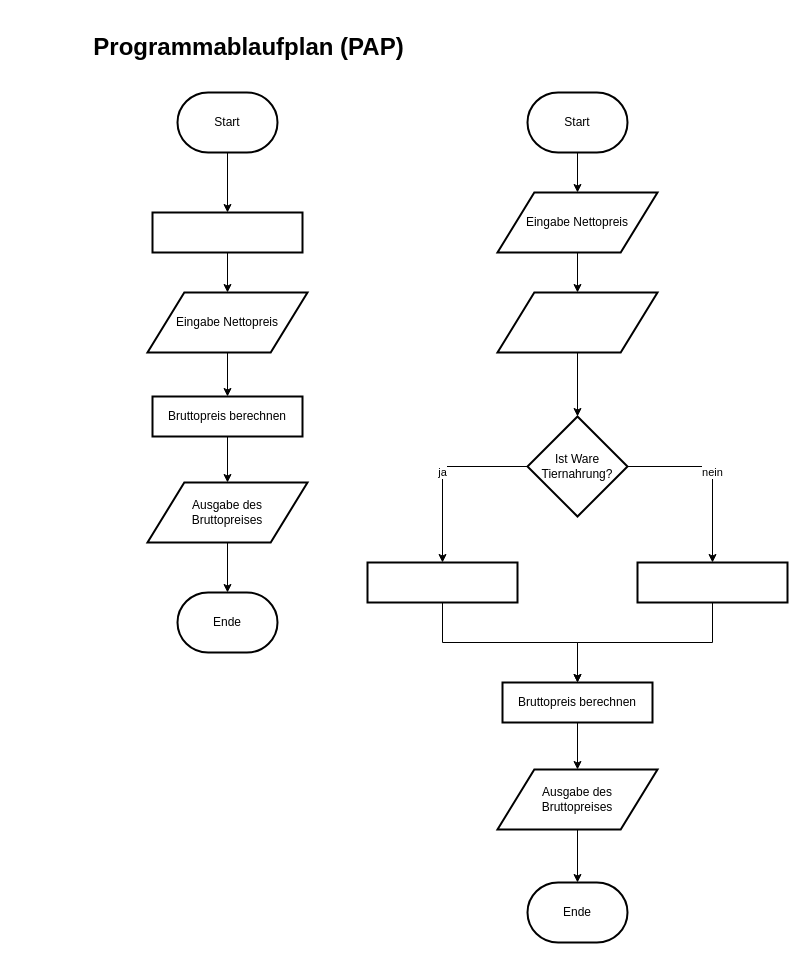
Image size: 805x961. Some labels were removed from this diagram. Here are the shapes that lost their labels. From the top down, the centre of each, then its label:
the point at 227,232: Mehrwertsteuersatz festlegen
the point at 577,322: Eingabe ob Ware Tiernahrung ist
the point at 442,582: Setze Mehrwertsteuer auf 7%
the point at 712,582: Setze Mehrwertsteuer auf 19%
